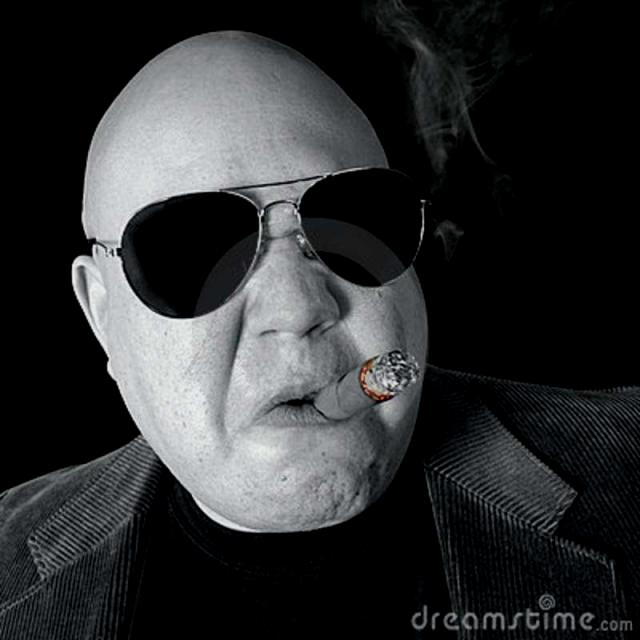Smooking: (312, 339, 434, 425)
